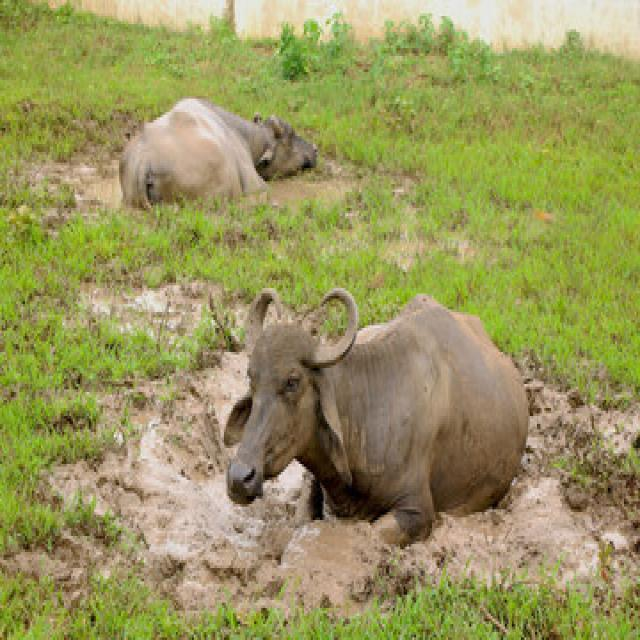Buffalo: (218, 279, 533, 574)
